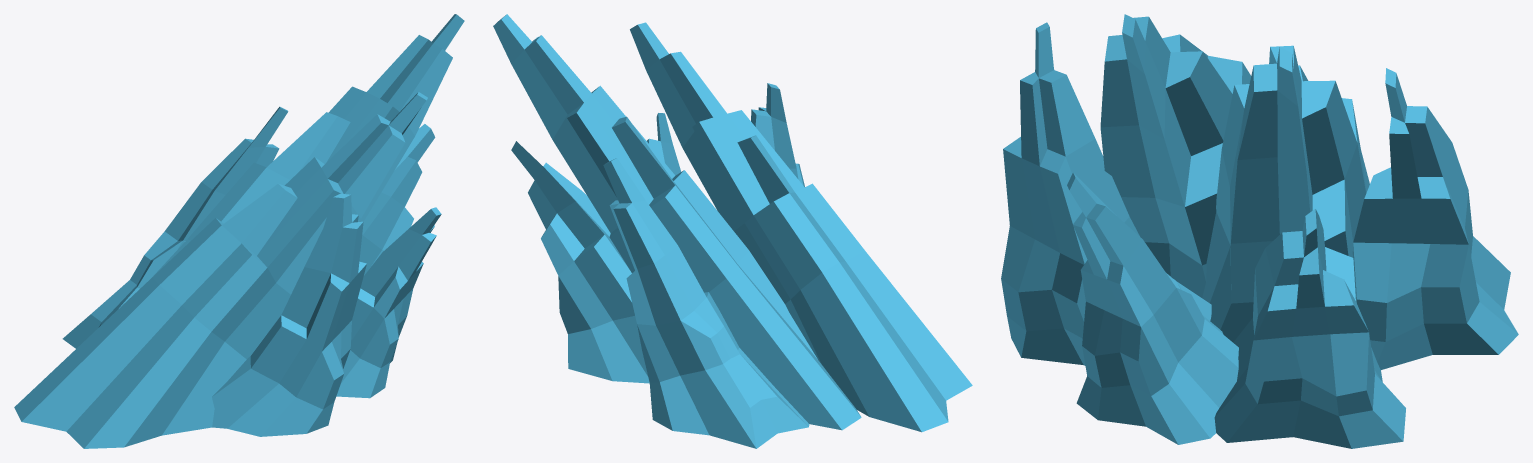
File: Spikes.fbx
The picture shows the model from 3 angles, left to right: view 1: azimuth 30°, elevation 25°; view 2: azimuth 150°, elevation 25°; view 3: azimuth 270°, elevation 25°; orthographic projection. The views are drawn at different scales.
Visible parts, largest first — view 1: Spikes; view 2: Spikes; view 3: Spikes.
Part boxes in pixels (x1=…): Spikes: x1=14, y1=14, x2=464, y2=448; Spikes: x1=493, y1=14, x2=972, y2=448; Spikes: x1=1001, y1=14, x2=1518, y2=448.
Bounding box in the file's own units: 107 × 68.36 × 67.83.
